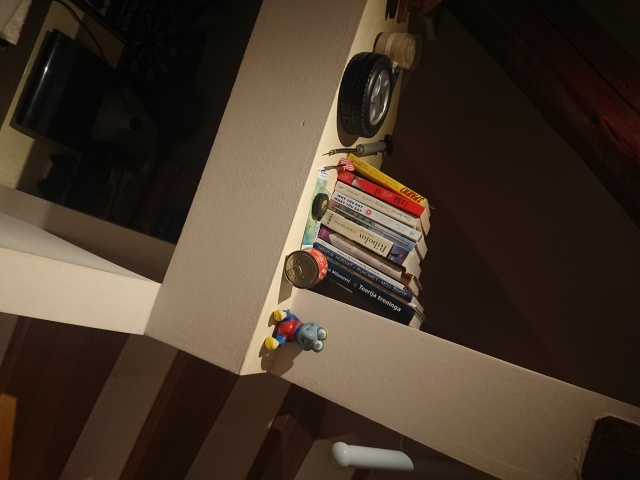Podravka Luncheon Meat 150g: (282, 246, 330, 291)
